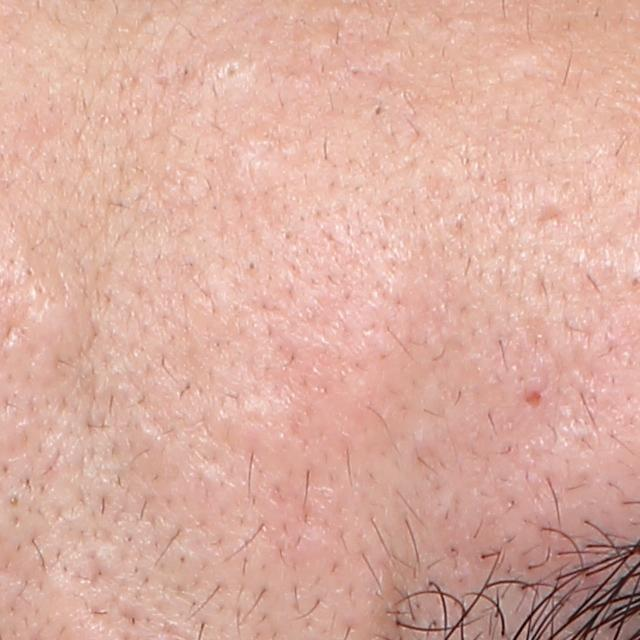comedo: (217, 54, 249, 86), (366, 100, 390, 121)
